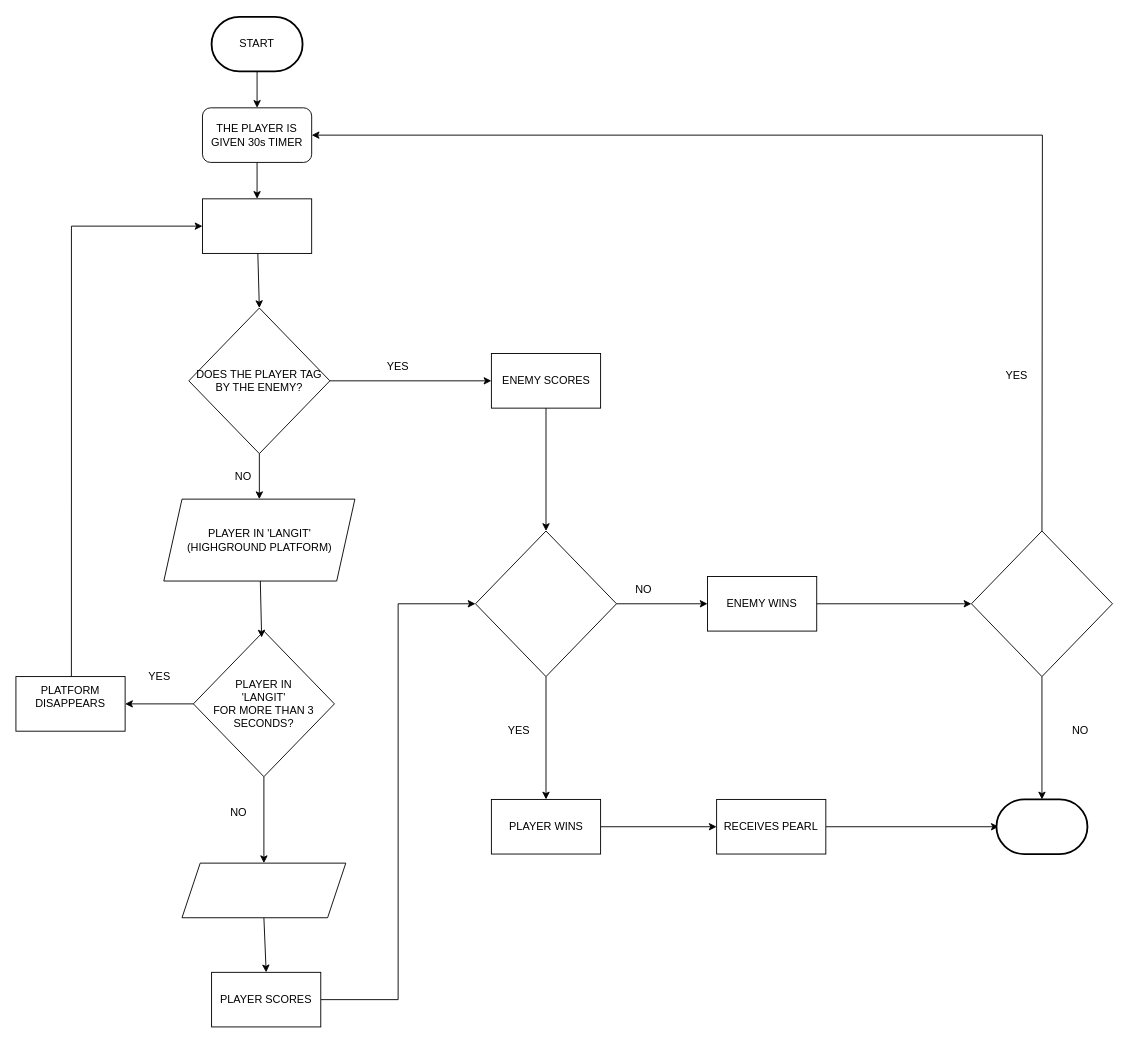
Some shapes in this 1128 by 1043 pixel diagram are drawn without their labels. Each missing label, with the centre of its shape:
"END" belongs at [1041,826].
"PLAYER RUNS AND THE ENEMY CHASE THE PLAYER" belongs at [257,225].
"PLAYER SCORED 3 ROUNDS?" belongs at [546,603].
"TIMER RUNS OUT" belongs at [263,890].
"TRY AGAIN?" belongs at [1041,603].
